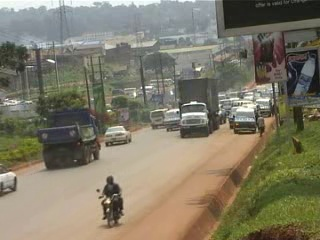Car: (100, 122, 134, 147), (0, 159, 20, 198), (217, 101, 229, 125)
Motorcycle: (93, 175, 128, 226)
